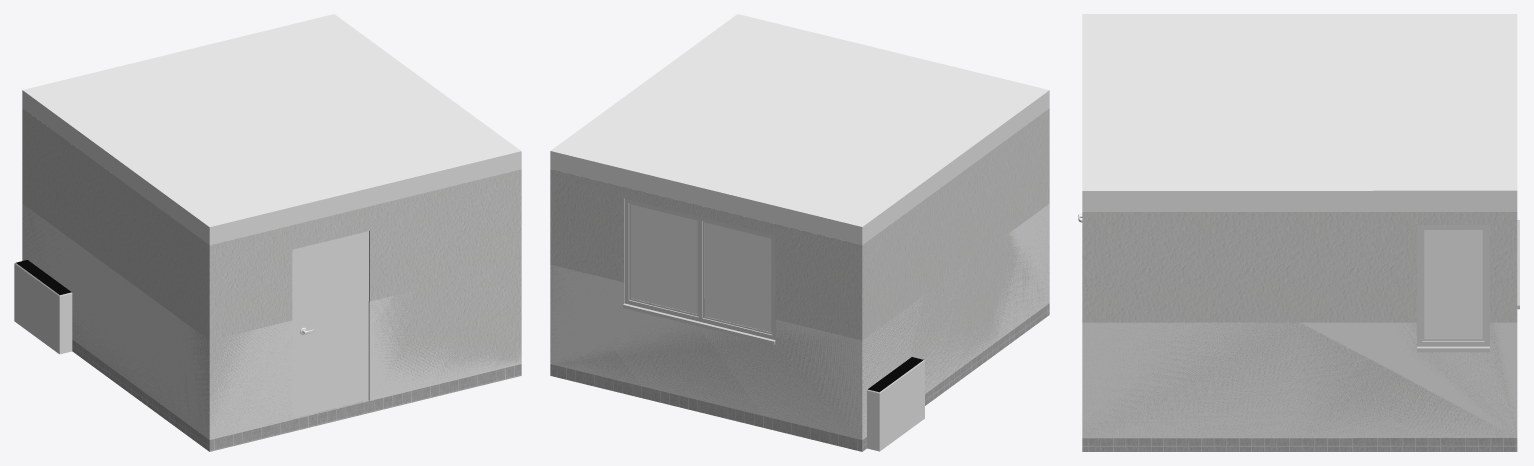
Rendered from FloorPlan411_physics.fbx.
3 views of the same model, side by side, from view 1: azimuth 30°, elevation 25°; view 2: azimuth 150°, elevation 25°; view 3: azimuth 270°, elevation 25° (orthographic). The views are drawn at different scales.
Parts seen in each view (by area): view 1: FP411:Ceiling, FP411:Walls, FP411:Room.002, FP411:Door.005, FP411:Floor, FP411:Cube.1869, FP411:DoorFrame.005, FP411:PS_411_Countertop_2; view 2: FP411:Walls, FP411:Ceiling, FP411:Room.002, FP411:polySurface59, FP411:Floor, FP411:polySurface60, FP411:Cube.1869, FP411:PS_411_Countertop_2; view 3: FP411:Ceiling, FP411:Walls, FP411:Room.002, FP411:polySurface61, FP411:Floor, FP411:polySurface63.
Part boxes in pixels (box(x1,y1,x2,y2)): FP411:Ceiling: box(22, 14, 521, 245); FP411:Walls: box(22, 108, 521, 439); FP411:Room.002: box(22, 204, 521, 439); FP411:Door.005: box(297, 238, 362, 416); FP411:Floor: box(72, 340, 521, 451); FP411:Cube.1869: box(14, 263, 72, 354); FP411:DoorFrame.005: box(292, 231, 368, 418); FP411:PS_411_Countertop_2: box(16, 260, 71, 294); FP411:Walls: box(550, 108, 1049, 439); FP411:Ceiling: box(550, 14, 1049, 244); FP411:Room.002: box(550, 204, 1049, 439); FP411:polySurface59: box(631, 204, 771, 332); FP411:Floor: box(550, 303, 1049, 451); FP411:polySurface60: box(623, 198, 775, 344); FP411:Cube.1869: box(867, 360, 924, 451); FP411:PS_411_Countertop_2: box(868, 357, 923, 392); FP411:Ceiling: box(1082, 14, 1517, 211); FP411:Walls: box(1082, 212, 1517, 438); FP411:Room.002: box(1082, 322, 1517, 438); FP411:polySurface61: box(1424, 230, 1482, 339); FP411:Floor: box(1082, 438, 1517, 451); FP411:polySurface63: box(1417, 225, 1489, 352).
Bounding box in the file's own units: 421 × 277 × 425.
